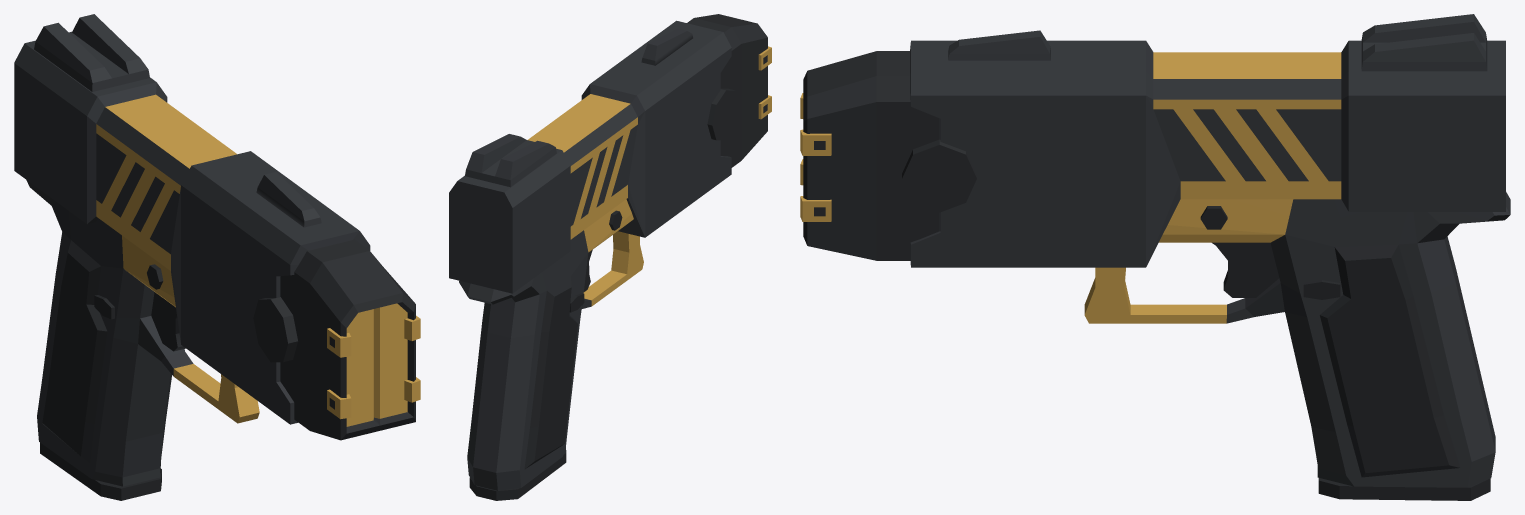
File: SM_Wep_Stungun_01.fbx
The picture shows the model from 3 angles, left to right: view 1: azimuth 30°, elevation 25°; view 2: azimuth 150°, elevation 25°; view 3: azimuth 270°, elevation 25°; orthographic projection. The views are drawn at different scales.
Parts seen in each view (by area): view 1: SM_Wep_Stungun_01; view 2: SM_Wep_Stungun_01; view 3: SM_Wep_Stungun_01.
Boxes of the visible parts, x1=… form: SM_Wep_Stungun_01: x1=14, y1=14, x2=420, y2=500; SM_Wep_Stungun_01: x1=449, y1=14, x2=771, y2=500; SM_Wep_Stungun_01: x1=800, y1=14, x2=1510, y2=500.
Bounding box in the file's own units: 5.04 × 22.11 × 31.1.
1 material, 1 textured.
